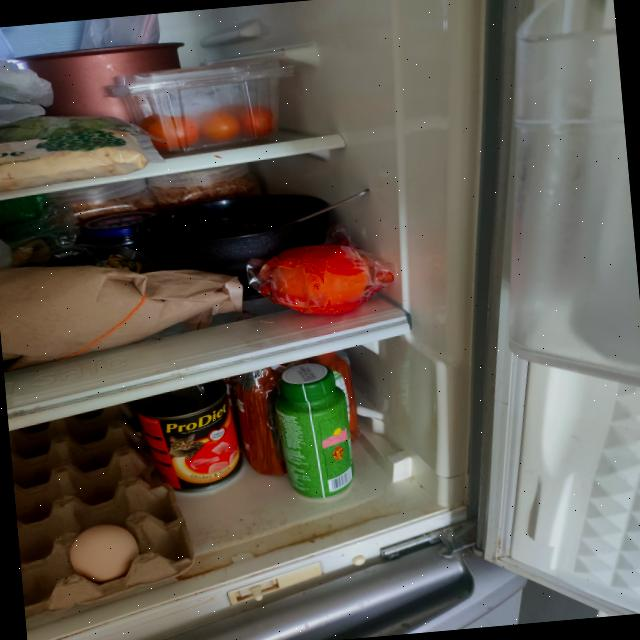egg: (7, 398, 200, 620)
orange: (257, 240, 373, 320)
tempeh: (0, 124, 151, 193)
